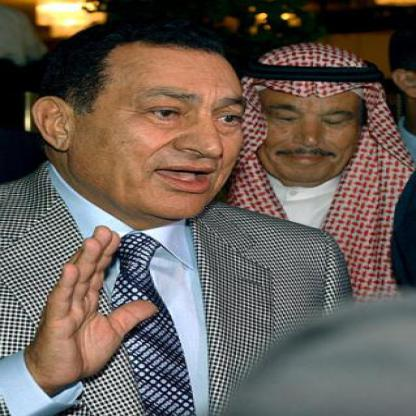face: (68, 31, 253, 223), (248, 59, 375, 185)
